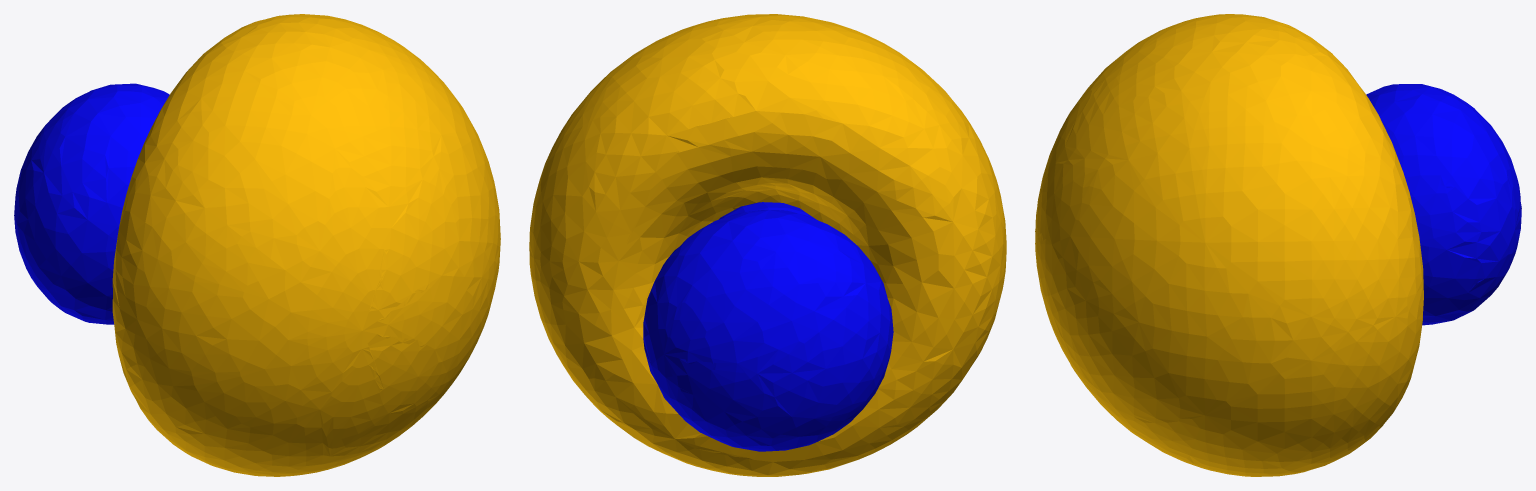
3 renders of one model, left to right at view 1: azimuth 30°, elevation 25°; view 2: azimuth 150°, elevation 25°; view 3: azimuth 270°, elevation 25°, orthographic. The views are drawn at different scales.
Bounding box in the file's own units: 19.16 × 20.04 × 20.91.
